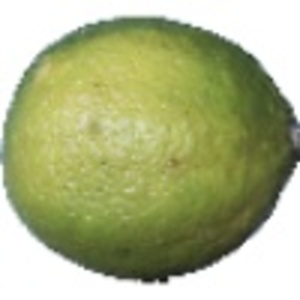limão: (1, 15, 300, 283)
